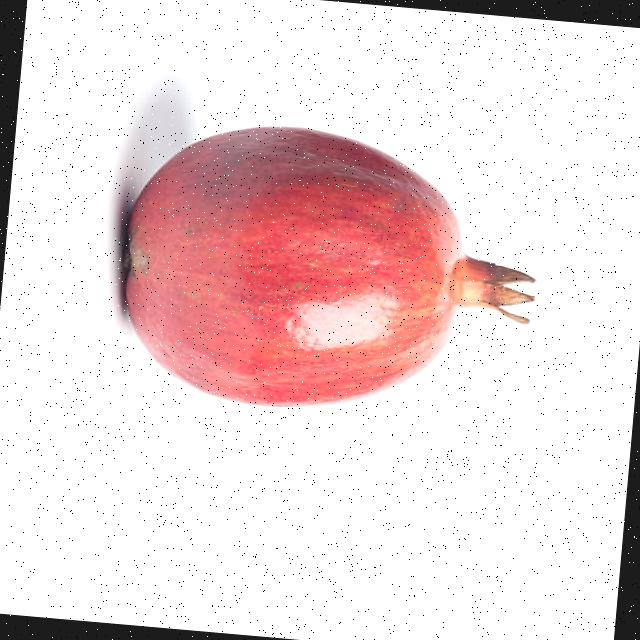Ripe: (106, 110, 568, 432)
